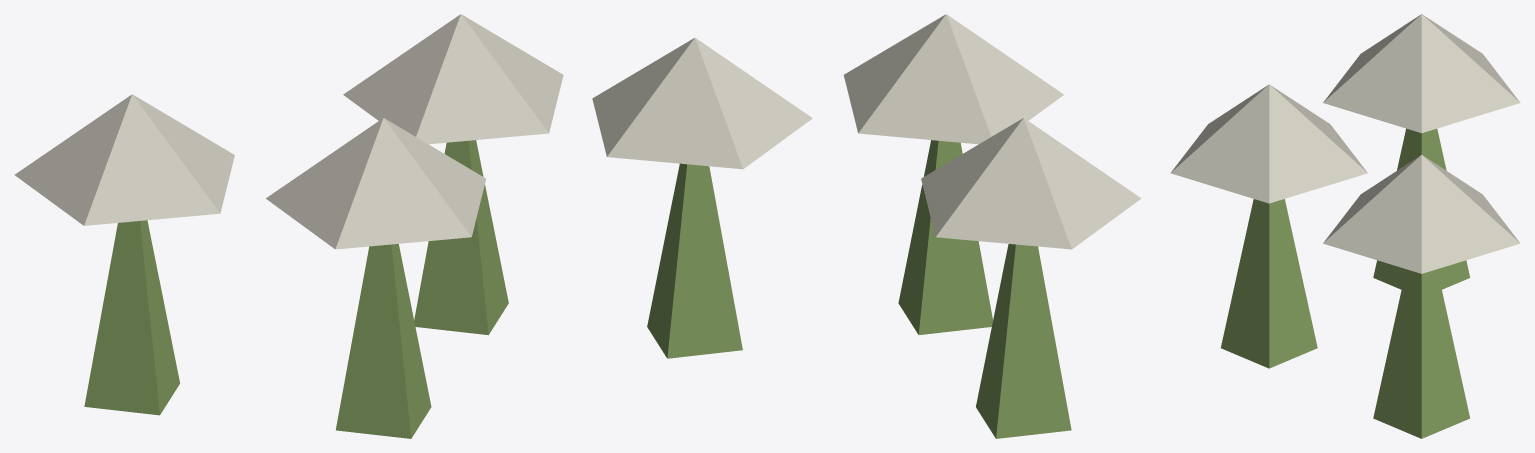
The model's file is flower_01.glb.
3 views of the same model, side by side, from view 1: azimuth 30°, elevation 25°; view 2: azimuth 150°, elevation 25°; view 3: azimuth 270°, elevation 25° (orthographic). The views are drawn at different scales.
Size of the model in its own units: 0.7514 by 0.42 by 0.5053.
